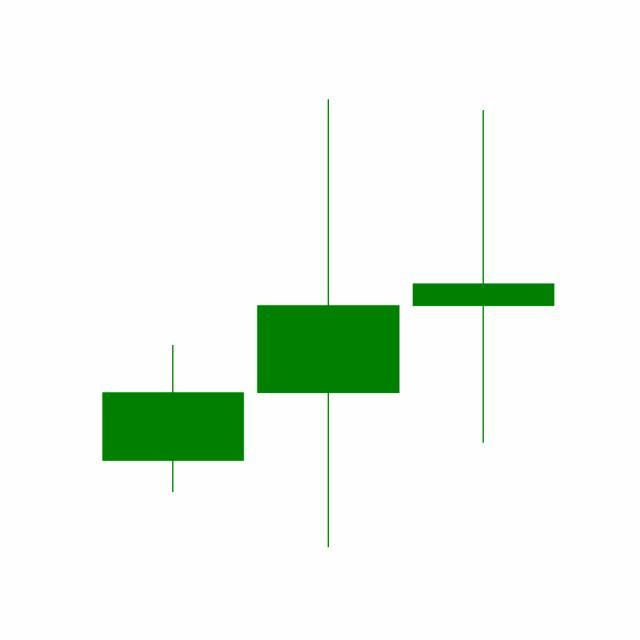Spinning Top: (406, 107, 562, 448)
